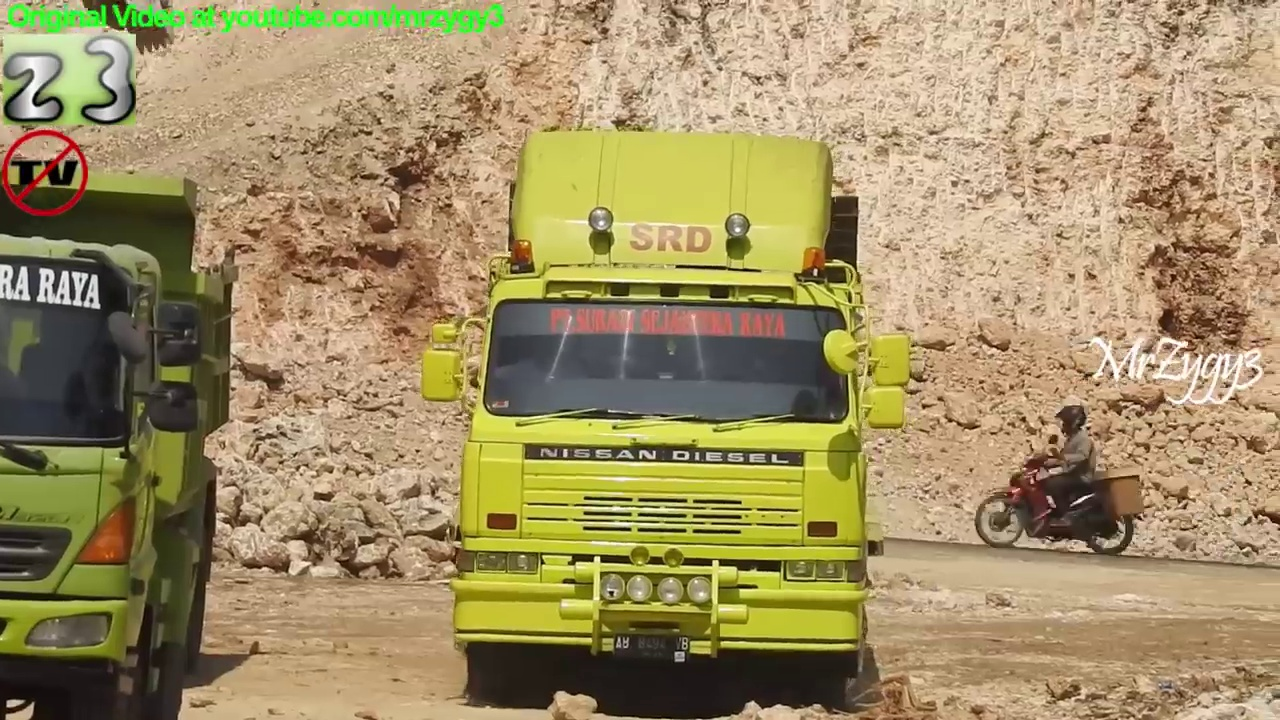truck: (416, 121, 919, 720), (1, 140, 248, 720)
